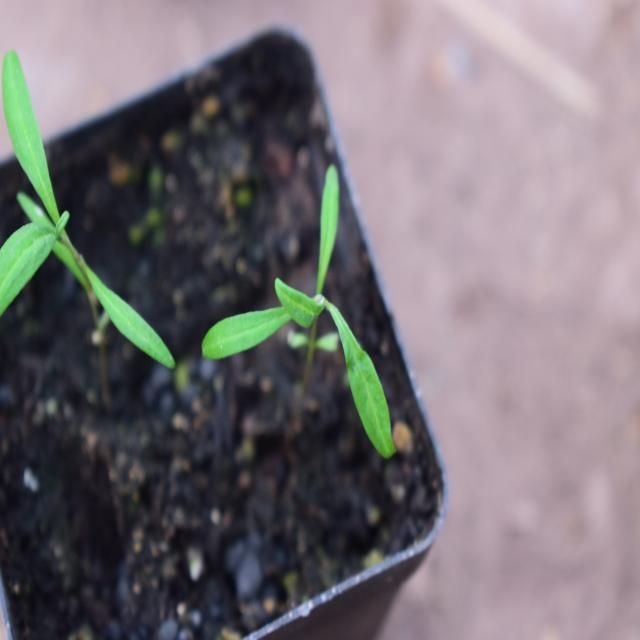white_smart_weed: (214, 153, 444, 497), (0, 48, 183, 389)
